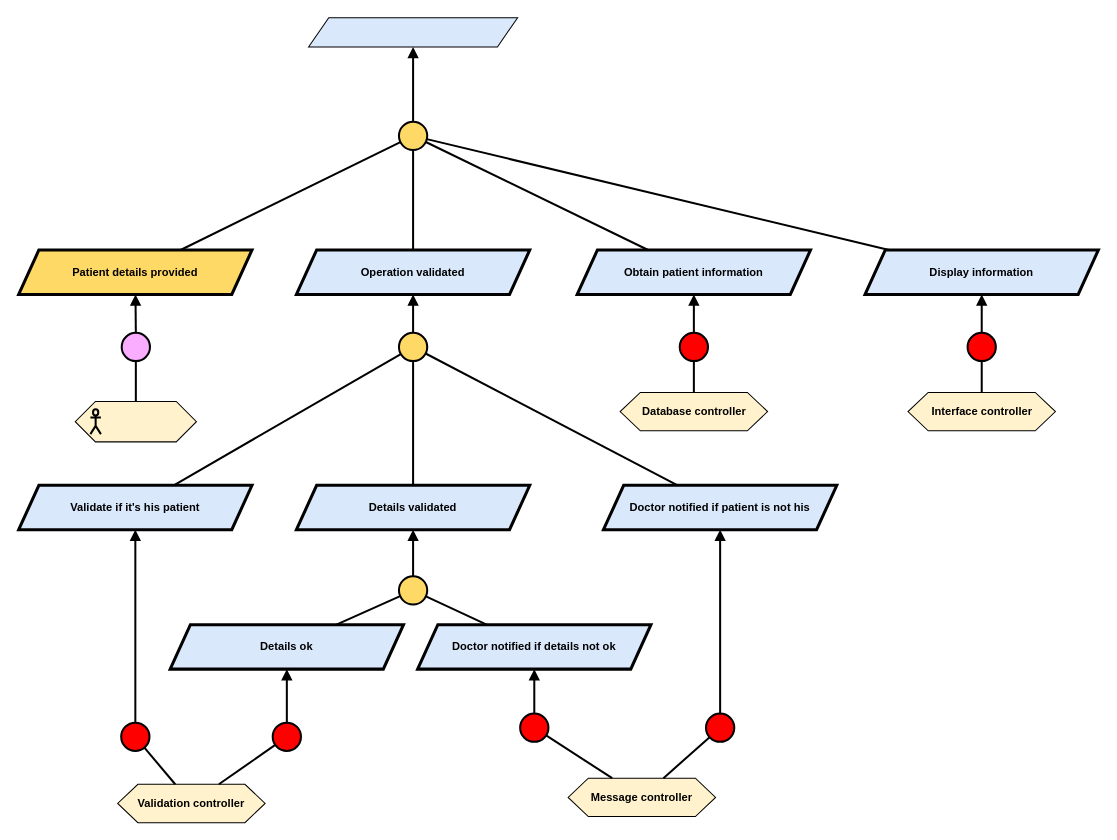
This 1117x840 diagram has some shape labels left out. The shapes that lost their labels are listed below. From the top down, each one's centre as x and y in pixels, then its label:
the point at 413,32: Doctor sees patient information
the point at 135,421: Doctor
